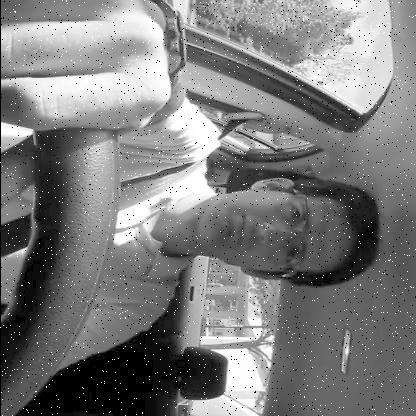seatbelt: (120, 106, 388, 302)
